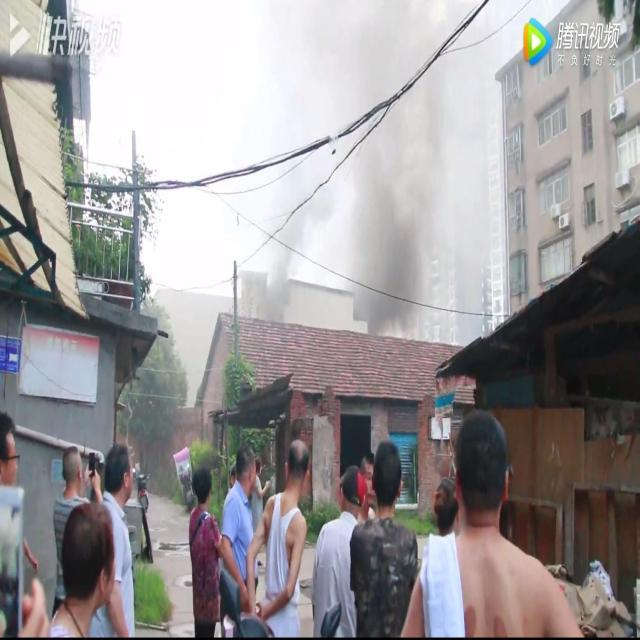Smoke: (348, 0, 461, 334), (255, 146, 337, 328)
